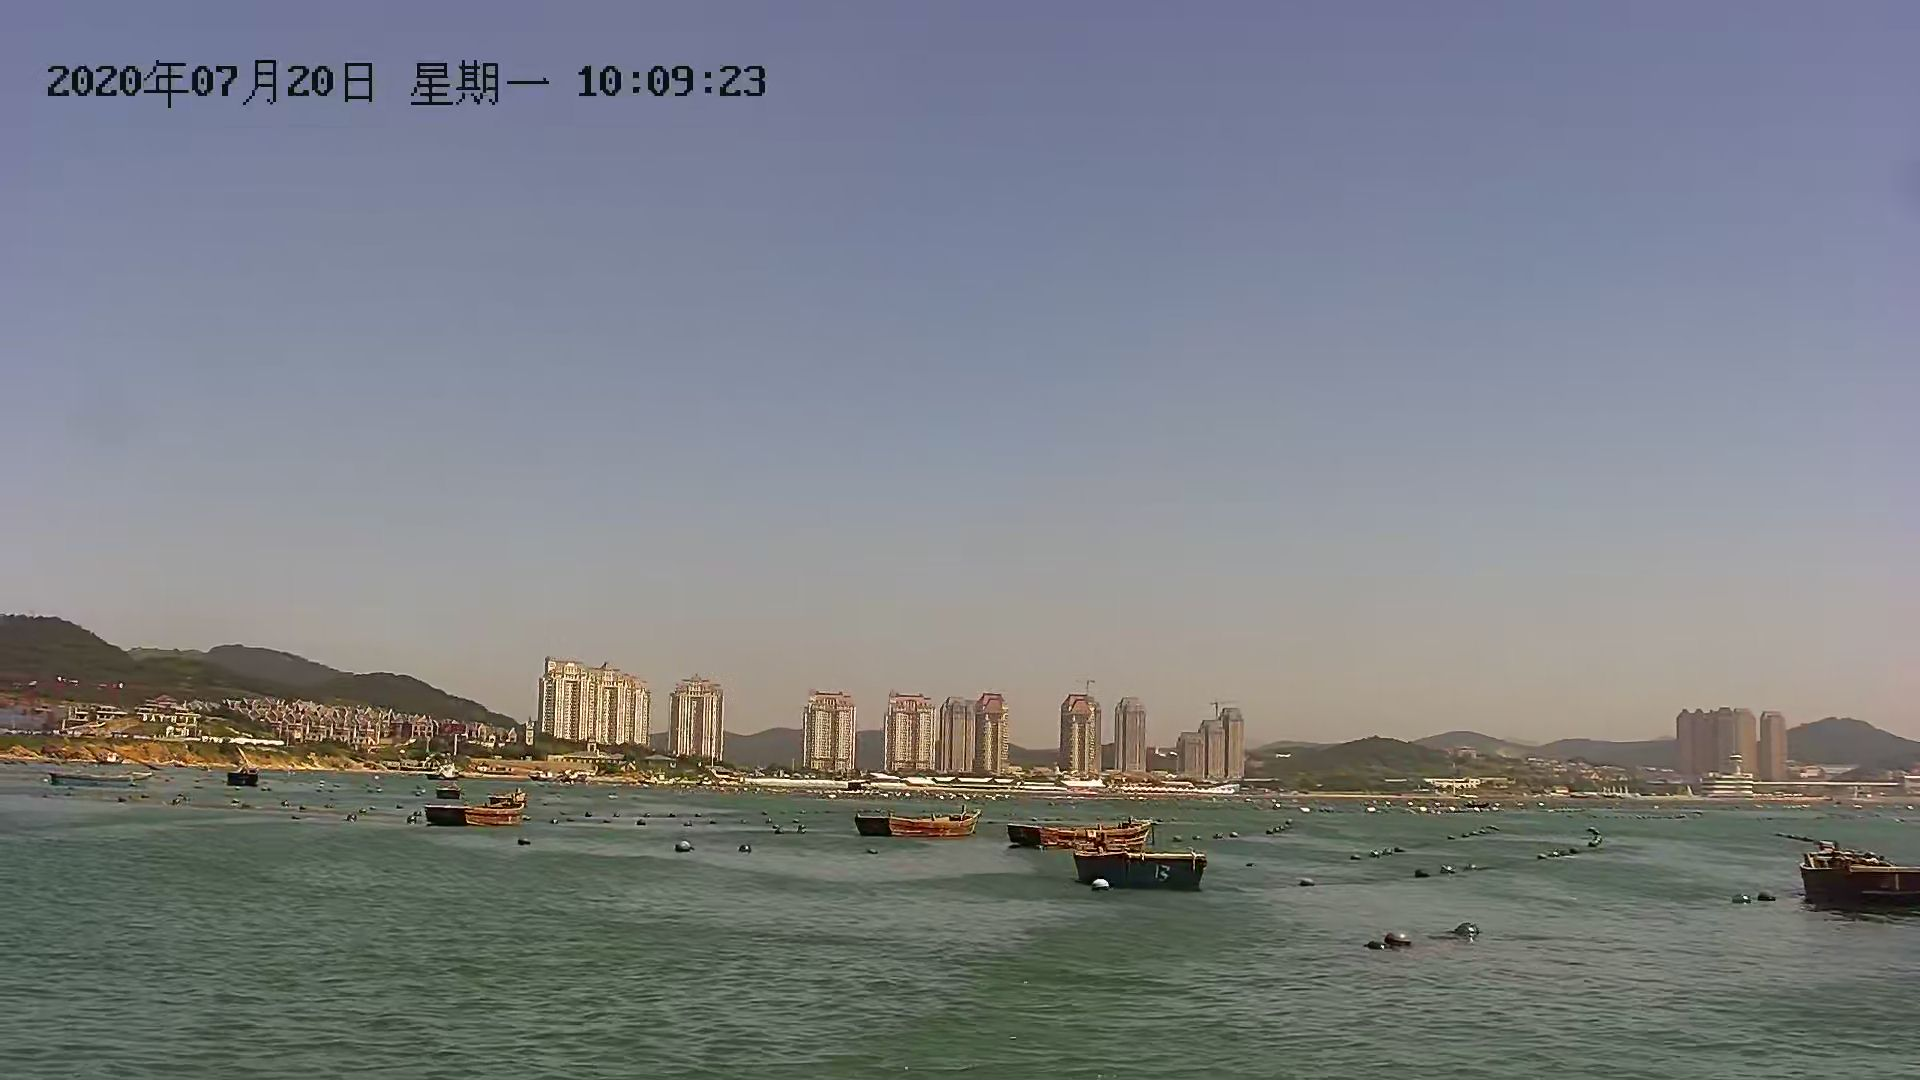boat: (1799, 840, 1920, 909), (1073, 851, 1211, 895), (1009, 815, 1155, 855), (848, 803, 982, 844), (419, 802, 527, 832), (44, 765, 157, 793), (219, 760, 264, 793), (1386, 926, 1418, 953), (1447, 916, 1482, 938), (673, 837, 702, 858)
